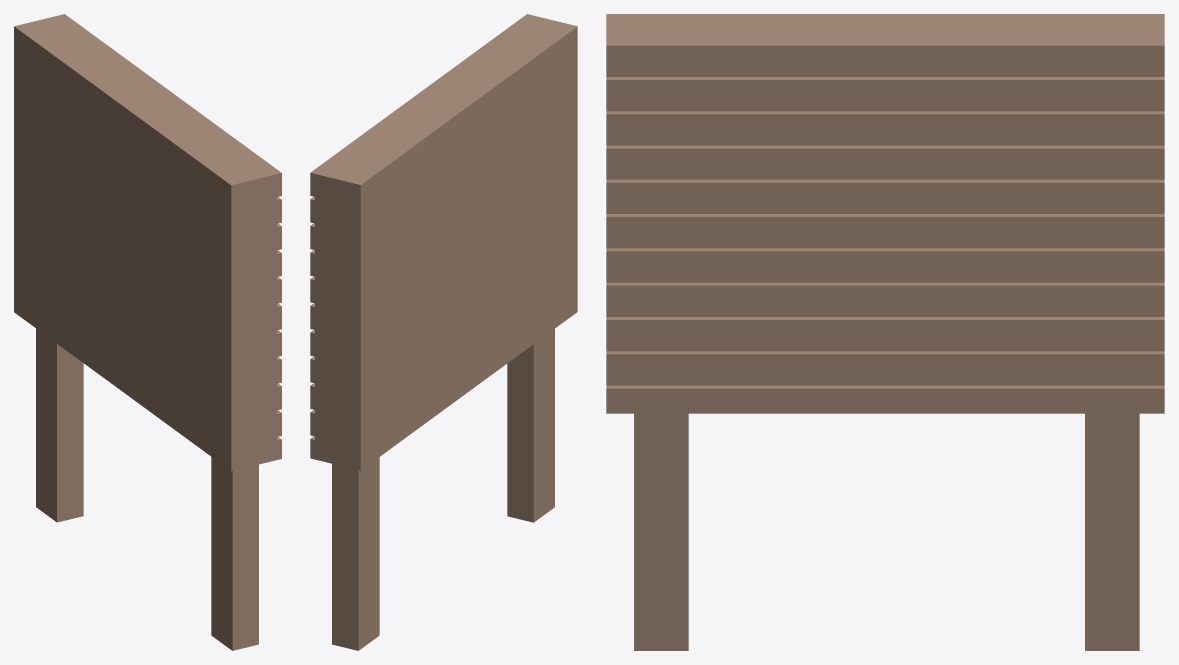
File: GuideBoard.fbx
The picture shows the model from 3 angles, left to right: view 1: azimuth 30°, elevation 25°; view 2: azimuth 150°, elevation 25°; view 3: azimuth 270°, elevation 25°; orthographic projection. The views are drawn at different scales.
Visible parts, largest first — view 1: pCube25, pCube3, pCube5; view 2: pCube25, pCube5, pCube3; view 3: pCube25, pCube3, pCube5.
Boxes of the visible parts, left/top/right/bottom form: pCube25: left=14, top=14, right=281, bottom=471; pCube3: left=211, top=457, right=258, bottom=650; pCube5: left=36, top=328, right=83, bottom=522; pCube25: left=310, top=14, right=577, bottom=470; pCube5: left=332, top=457, right=379, bottom=650; pCube3: left=507, top=329, right=554, bottom=522; pCube25: left=606, top=14, right=1164, bottom=413; pCube3: left=634, top=413, right=688, bottom=650; pCube5: left=1085, top=413, right=1139, bottom=650.
Size of the model in its own units: 0.1854 by 1.67 by 1.38.
